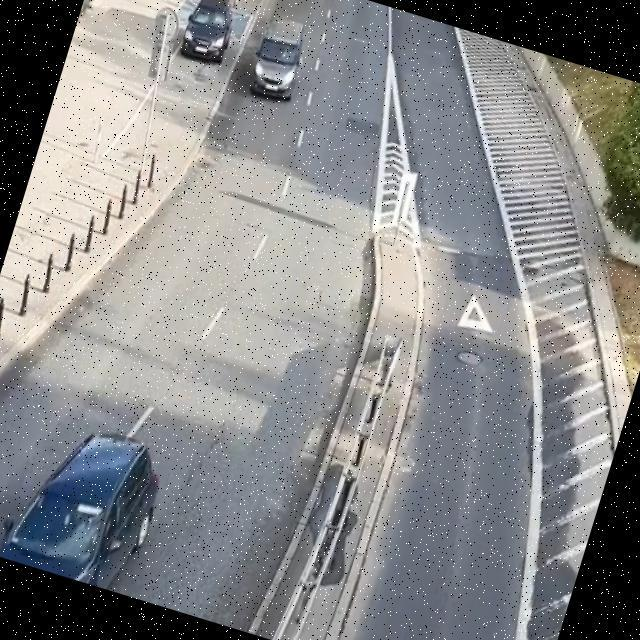car: (1, 434, 158, 587), (252, 20, 302, 99), (181, 0, 231, 62)
